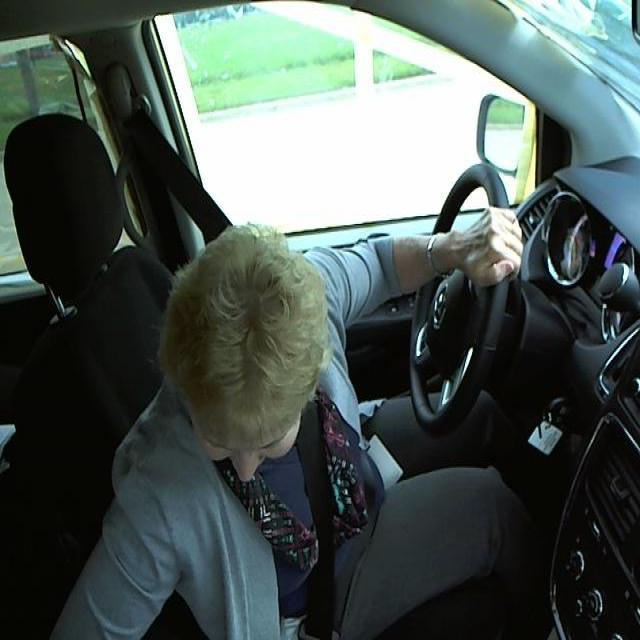seatbelt: (291, 438, 367, 638)
